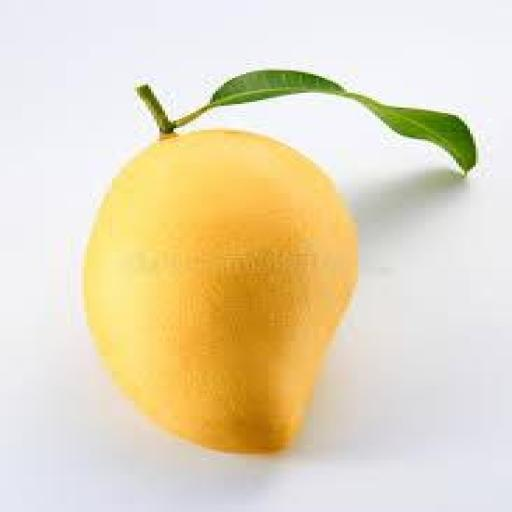mango: (87, 127, 366, 456)
